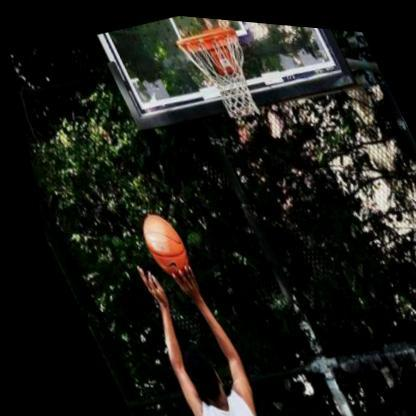basketball: (124, 206, 186, 276)
rim: (172, 17, 272, 122)
